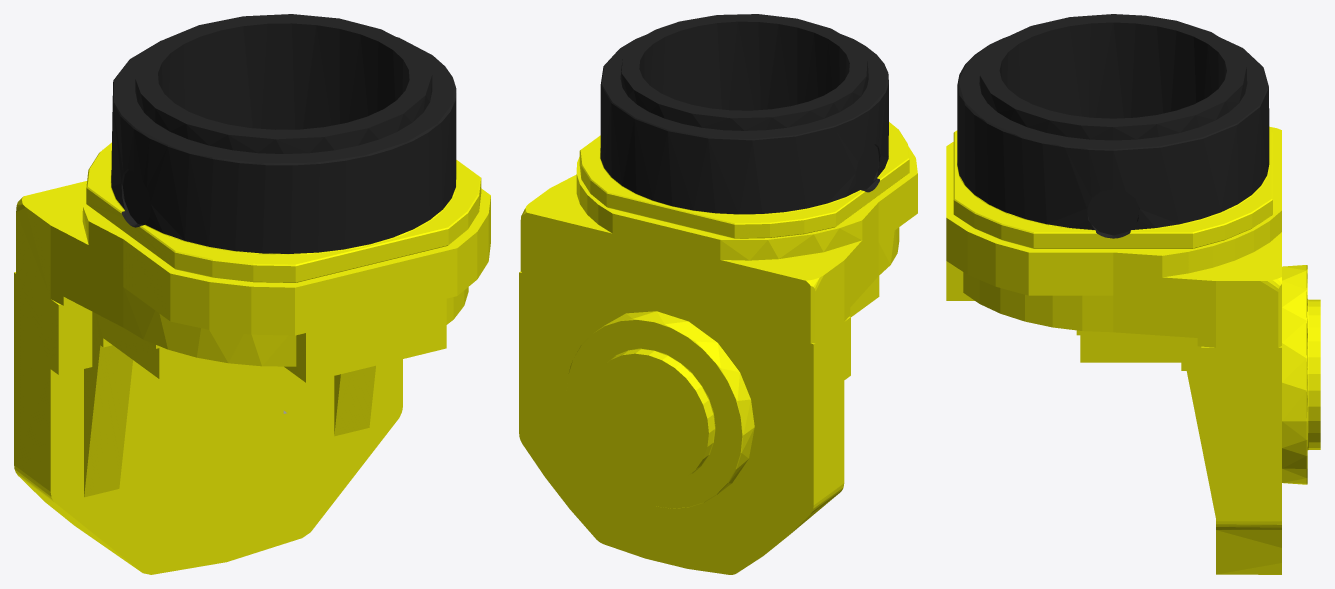
3 renders of one model, left to right at view 1: azimuth 30°, elevation 25°; view 2: azimuth 150°, elevation 25°; view 3: azimuth 270°, elevation 25°, orthographic. The views are drawn at different scales.
Parts seen in each view (by area): view 1: node; view 2: node; view 3: node.
Part boxes in pixels (bbox=[...]): node: bbox=[14, 14, 490, 574]; node: bbox=[519, 14, 917, 574]; node: bbox=[946, 14, 1320, 574].
Size of the model in its own units: 100 by 143 by 102.
